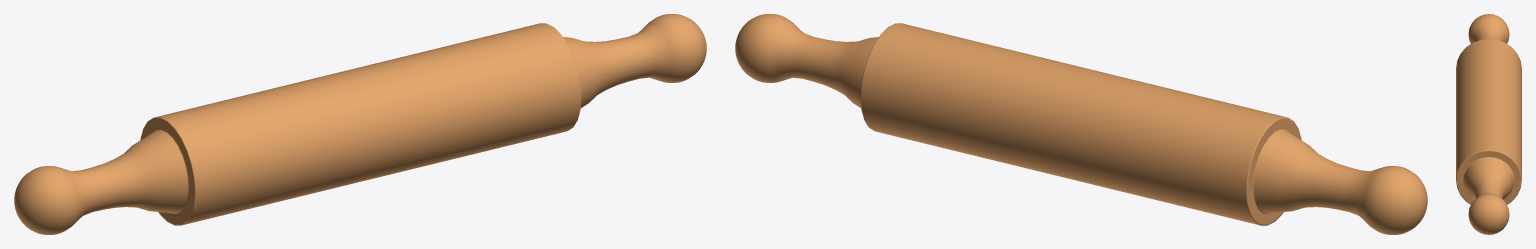
The model's file is rolling-pin.fbx.
The picture shows the model from 3 angles, left to right: view 1: azimuth 30°, elevation 25°; view 2: azimuth 150°, elevation 25°; view 3: azimuth 270°, elevation 25°; orthographic projection. The views are drawn at different scales.
Visible parts, largest first — view 1: rolling pin; view 2: rolling pin; view 3: rolling pin.
Part boxes in pixels (bbox=[...]): rolling pin: bbox=[14, 14, 706, 234]; rolling pin: bbox=[735, 14, 1427, 234]; rolling pin: bbox=[1456, 14, 1521, 234].
Bounding box in the file's own units: 14.16 × 2 × 2.
